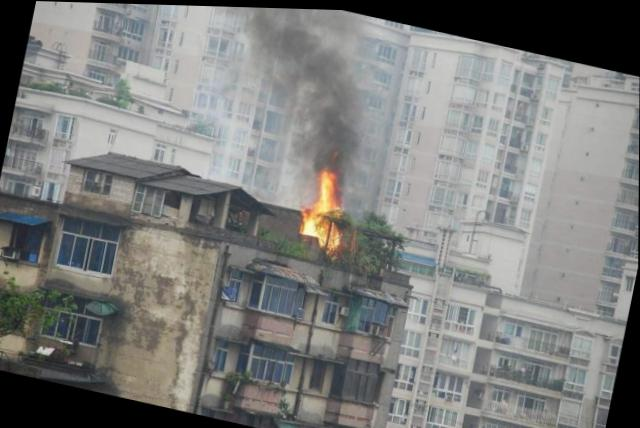fire: (316, 164, 348, 211), (299, 203, 322, 234), (315, 215, 332, 246), (326, 223, 342, 254)
